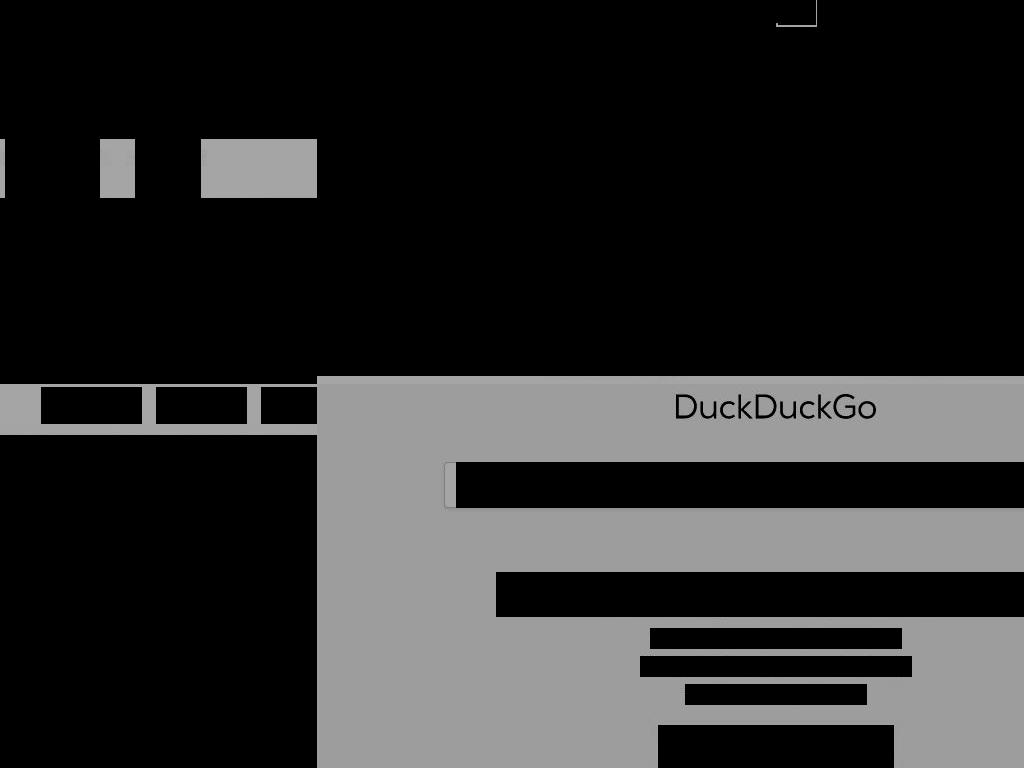button: (0, 0, 317, 114), (448, 243, 756, 294), (5, 667, 237, 719), (658, 725, 894, 768), (5, 113, 100, 199), (317, 243, 435, 294), (317, 309, 435, 360), (135, 113, 201, 199), (317, 0, 487, 29), (41, 387, 142, 424), (556, 0, 617, 60), (156, 387, 247, 424), (126, 749, 239, 768), (5, 749, 117, 768), (261, 387, 317, 424)
field: (456, 462, 1024, 508), (817, 0, 1024, 27), (279, 214, 317, 247)
heading: (317, 103, 1024, 161), (5, 535, 317, 647), (317, 160, 1024, 196), (496, 572, 1024, 617), (0, 113, 317, 139)
image: (317, 45, 1024, 376), (0, 198, 317, 384), (5, 749, 117, 768), (126, 749, 238, 768)
text: (0, 435, 317, 768), (658, 725, 894, 768), (63, 37, 230, 82), (492, 255, 713, 281), (640, 656, 912, 677), (650, 628, 902, 649), (685, 684, 867, 705), (317, 255, 392, 281), (317, 321, 392, 347), (775, 0, 814, 23), (567, 16, 607, 36)
